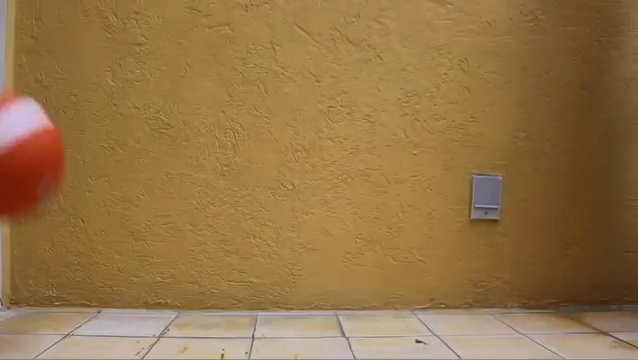ball: (1, 88, 65, 220)
